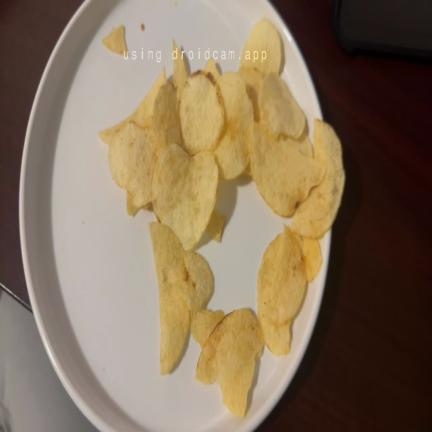chips: (149, 222, 213, 374), (196, 309, 263, 416), (152, 144, 218, 250), (251, 123, 325, 216), (291, 120, 344, 238), (149, 223, 189, 374), (98, 69, 166, 144), (258, 227, 306, 325), (109, 122, 155, 212), (215, 72, 253, 179), (180, 71, 224, 154), (260, 74, 305, 138), (159, 284, 189, 374), (240, 19, 281, 75), (149, 222, 184, 284), (179, 252, 213, 313), (153, 83, 182, 149), (294, 233, 322, 281), (259, 312, 290, 355), (239, 68, 263, 121), (191, 309, 224, 347), (173, 40, 187, 101), (303, 238, 322, 281), (286, 132, 313, 157), (103, 26, 126, 54), (207, 210, 225, 241), (204, 58, 220, 80), (127, 192, 139, 215), (243, 161, 252, 176)
plate: (20, 0, 330, 430)
